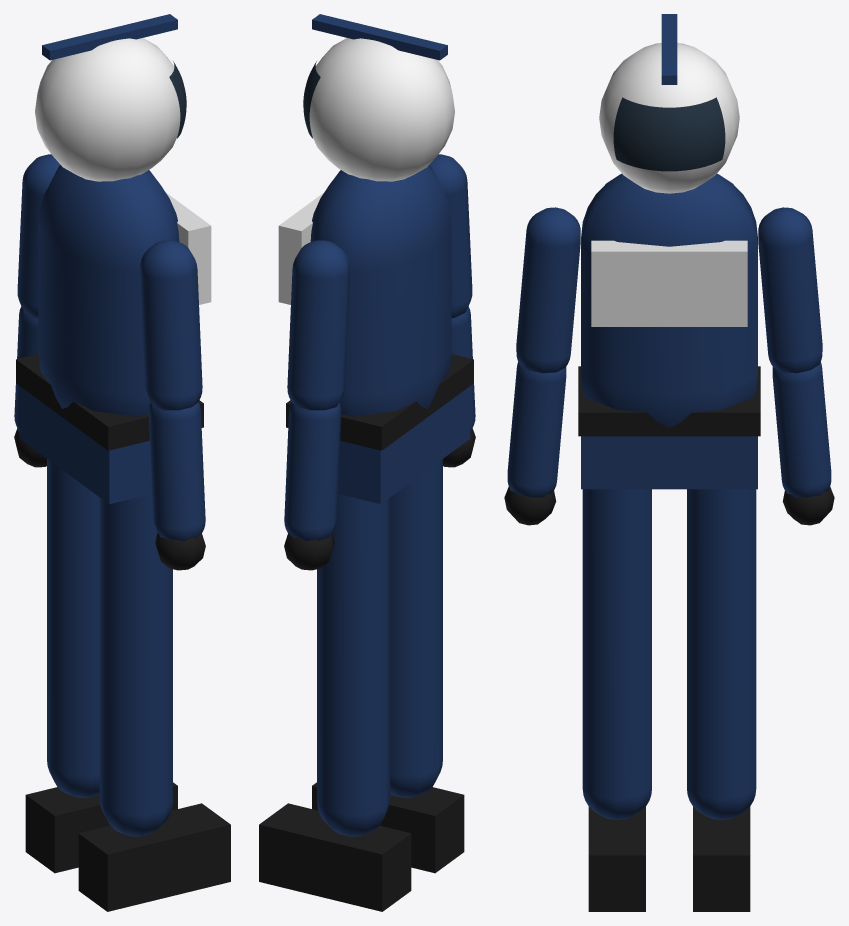
The model's file is pilot_stand.glb.
The picture shows the model from 3 angles, left to right: view 1: azimuth 30°, elevation 25°; view 2: azimuth 150°, elevation 25°; view 3: azimuth 270°, elevation 25°; orthographic projection.
Parts seen in each view (by area): view 1: pilot_stand, object 4, object 5, object 2, object 3; view 2: pilot_stand, object 2, object 3, object 4, object 5; view 3: pilot_stand, object 2, object 4, object 3, object 5.
Part boxes in pixels (x1=…): pilot_stand: x1=16, y1=14, x2=230, y2=911; object 4: x1=148, y1=402, x2=205, y2=541; object 5: x1=155, y1=533, x2=205, y2=570; object 2: x1=14, y1=306, x2=38, y2=432; object 3: x1=14, y1=428, x2=46, y2=467; pilot_stand: x1=259, y1=14, x2=473, y2=911; object 2: x1=284, y1=402, x2=341, y2=541; object 3: x1=284, y1=533, x2=334, y2=570; object 4: x1=451, y1=306, x2=475, y2=432; object 5: x1=443, y1=428, x2=475, y2=467; pilot_stand: x1=516, y1=14, x2=822, y2=911; object 2: x1=772, y1=362, x2=831, y2=497; object 4: x1=507, y1=362, x2=566, y2=497; object 3: x1=782, y1=487, x2=834, y2=525; object 5: x1=504, y1=487, x2=556, y2=525.
Size of the model in its own units: 0.3215 by 1.76 by 0.6354.
